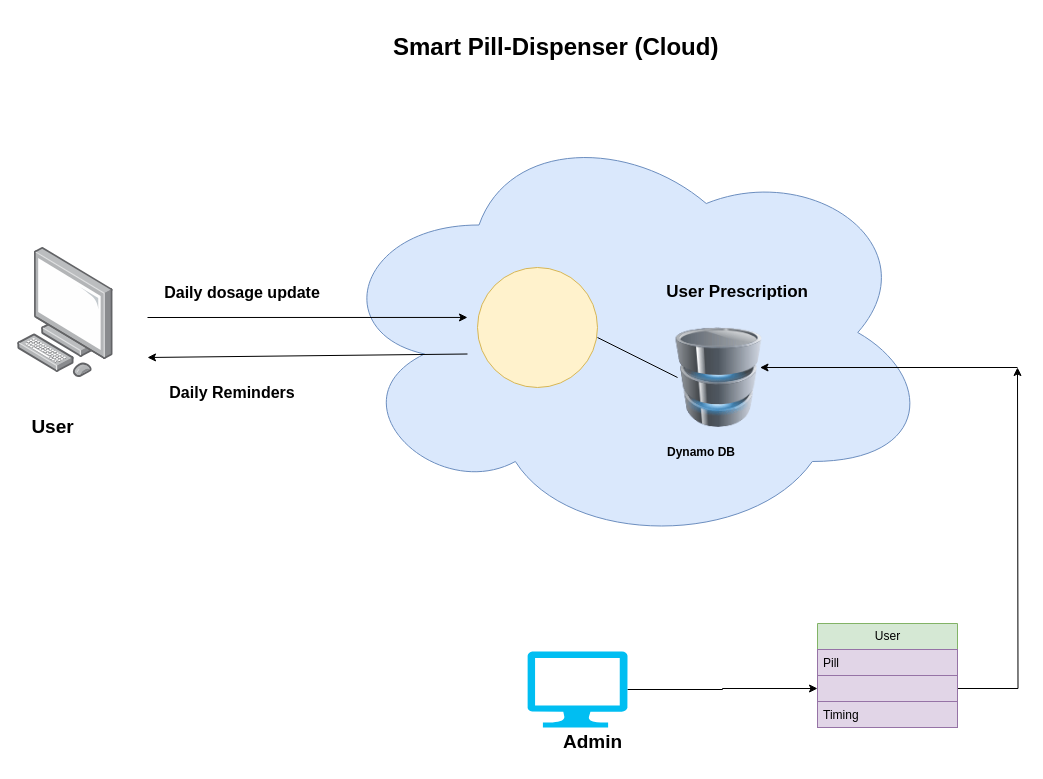
This 1043x779 diagram has some shape labels left out. The centre of each missing label's shape, as x and y in pixels:
AWS Sevice: (537,327)
Dosage: (887,688)
